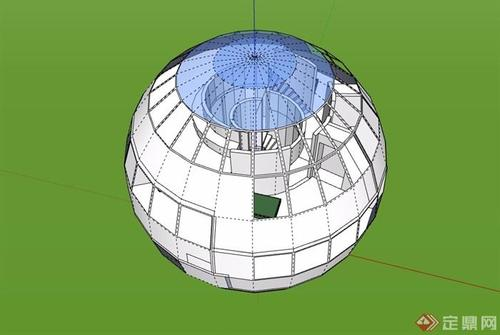buildings: (110, 50, 398, 290)
